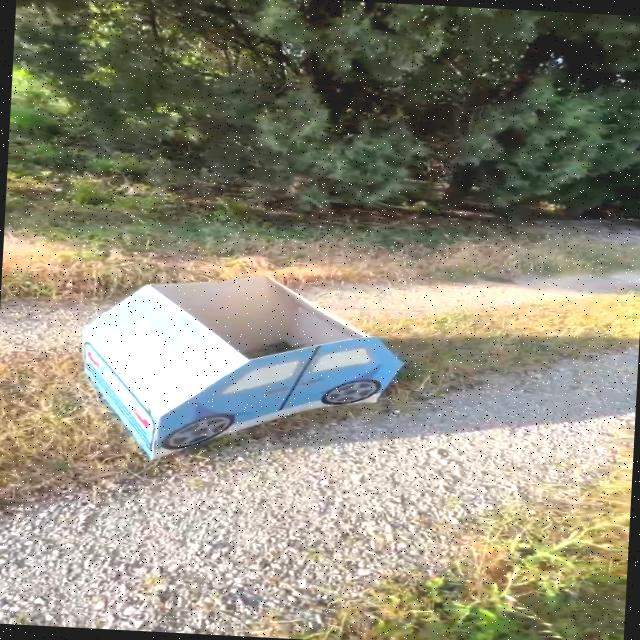blue_car: (52, 230, 466, 485)
